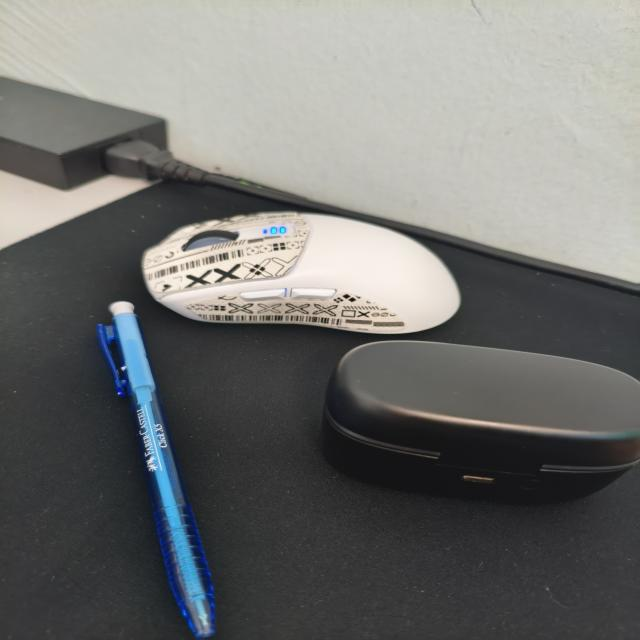pen: (97, 301, 215, 638)
